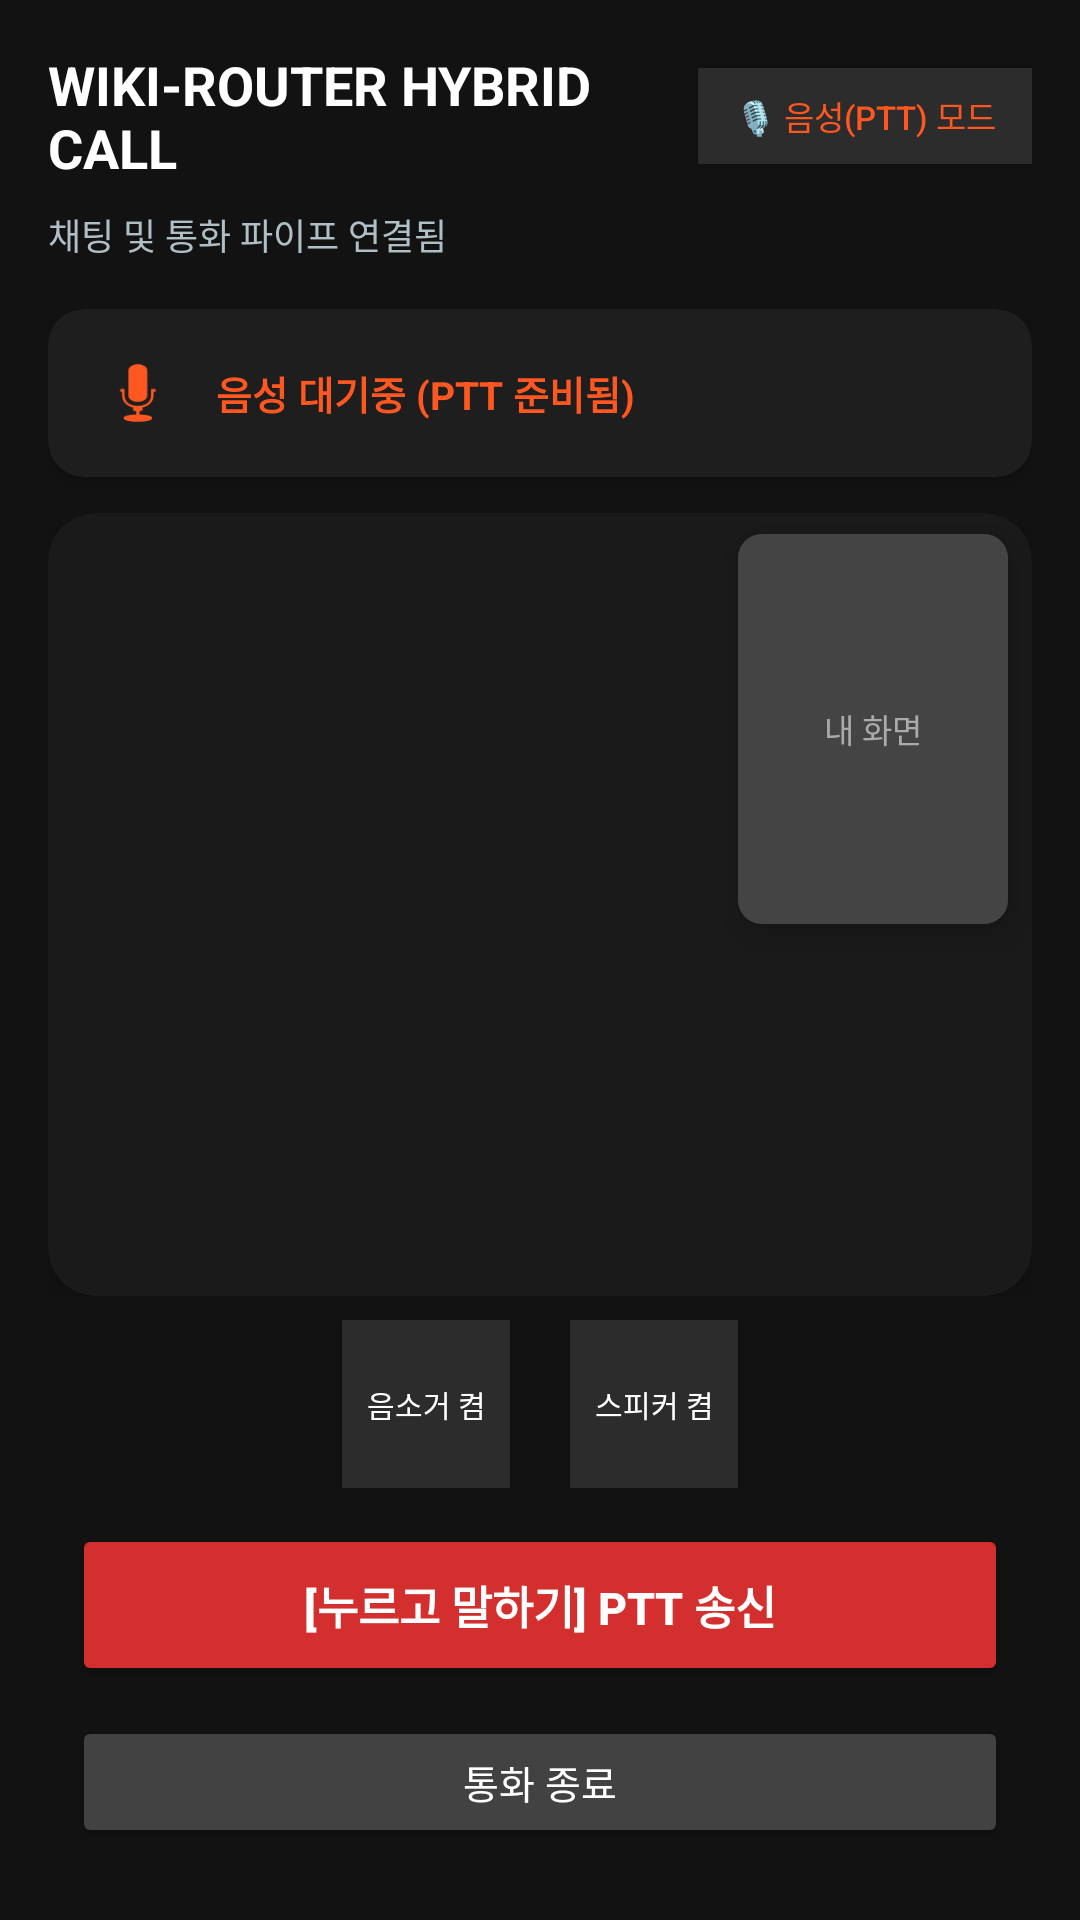

Icons on this 1080px×1920px Android screen, each with its box as bbox=[x1, y1, x2, y2]:
speak now: bbox=[119, 364, 157, 422]
